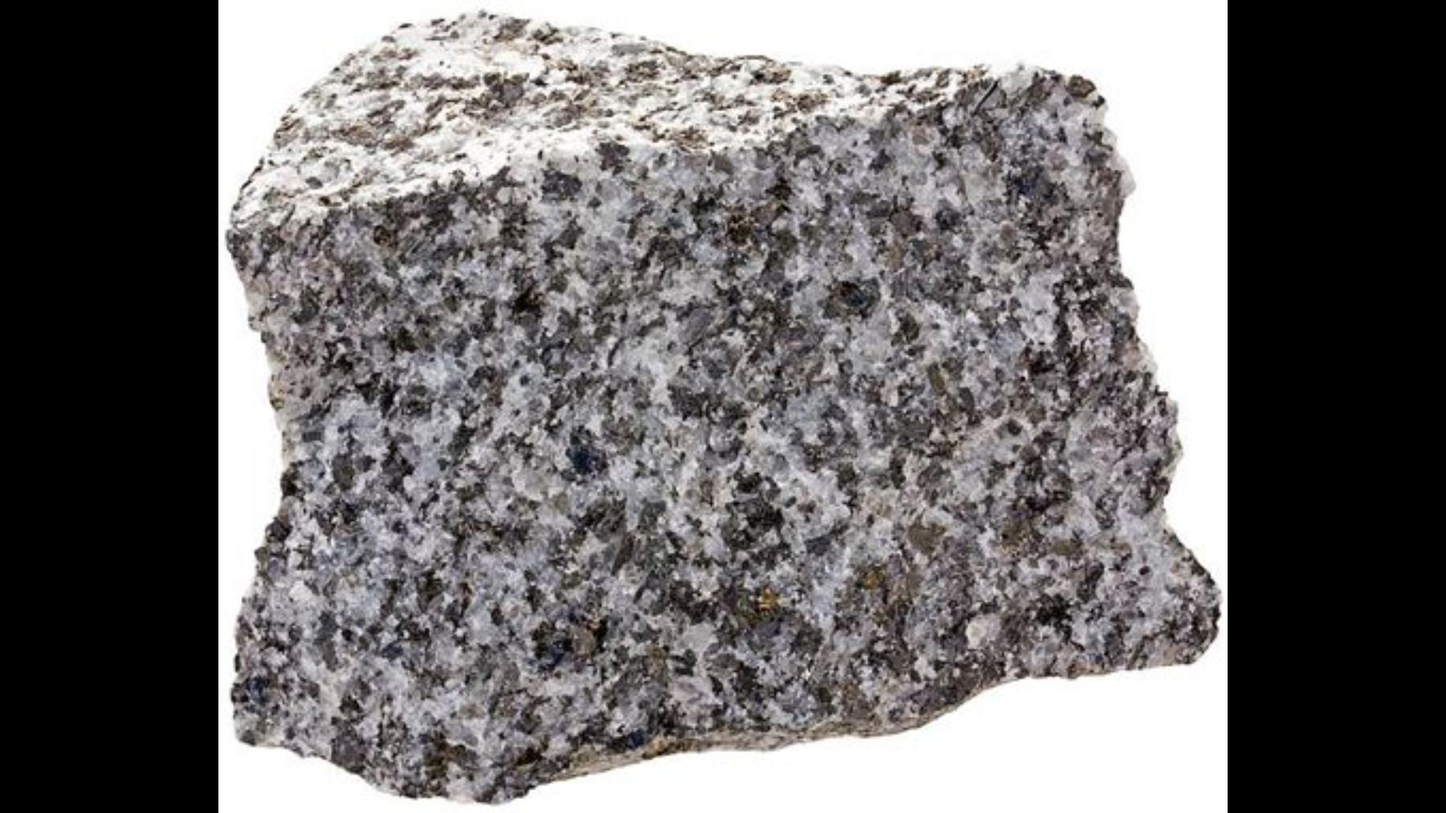rock: (227, 17, 1217, 798)
